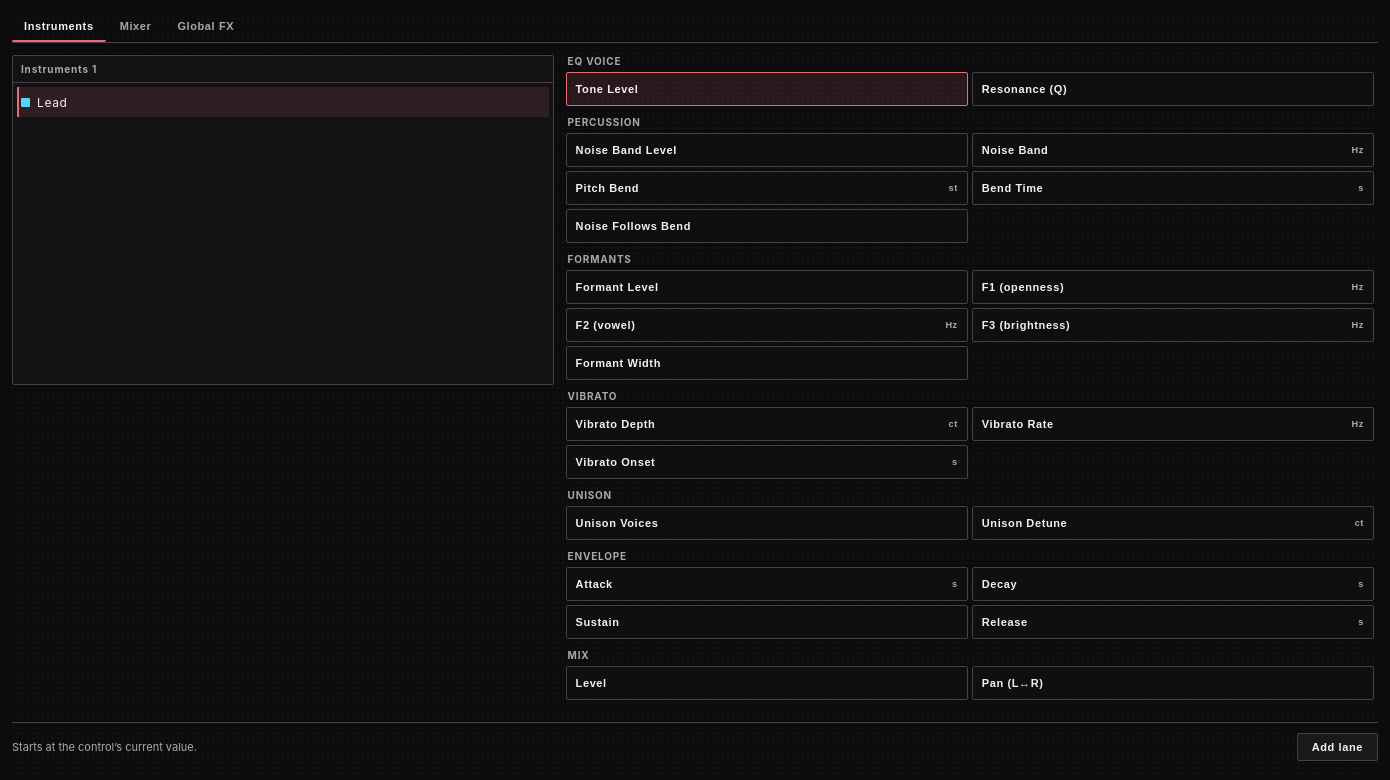
it: automation lane chooser › switches among accessible instrument, mixer, and global target tabs
The width and height of the screenshot is (1390, 780).
Expected: the element named "Instruments" is shown, [13, 83, 553, 121]
Click the tab "Mixer": (136, 27) [108, 12, 163, 42]
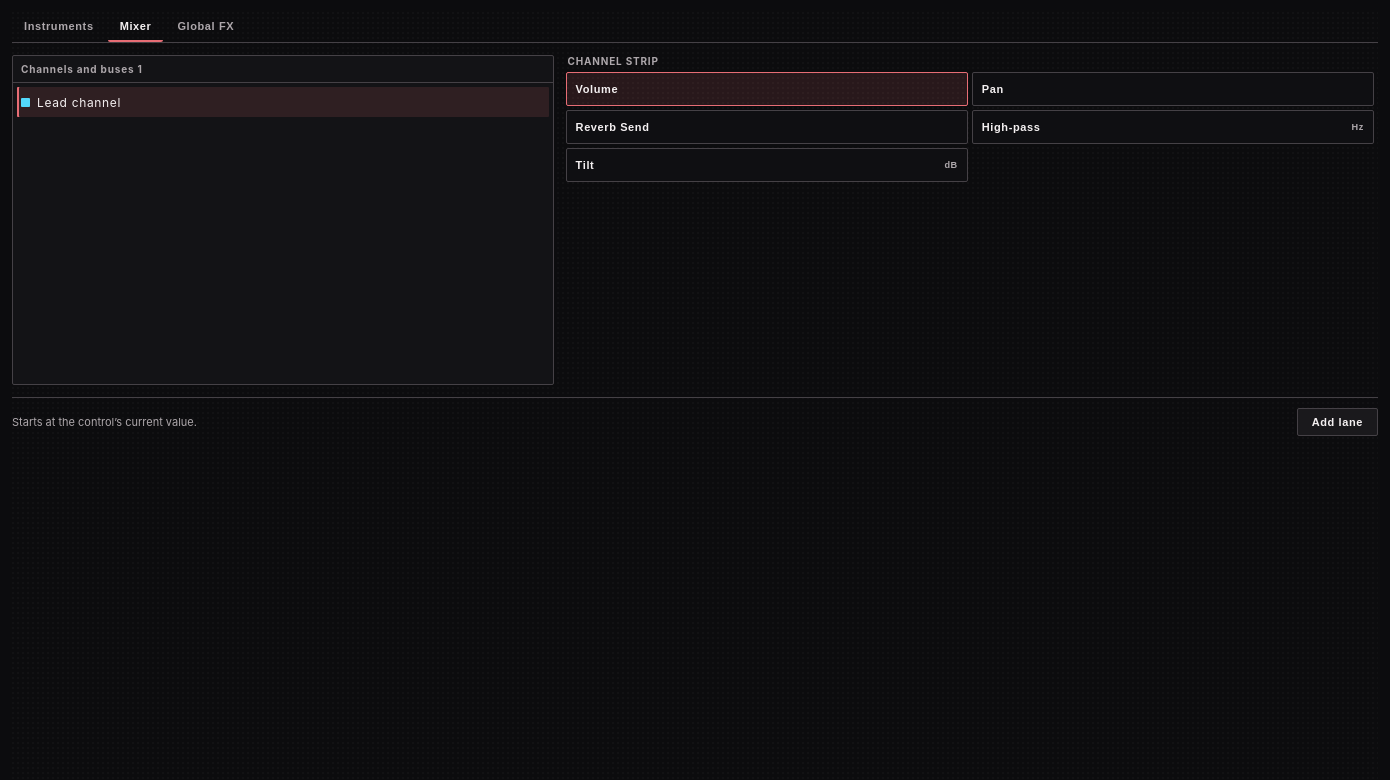
Now the element named "Channels and buses" is shown, box [13, 83, 553, 121]
Now the button "Lead channel" is shown, box [17, 88, 549, 116]
Click the tab "Global FX": (206, 27) [165, 12, 246, 42]
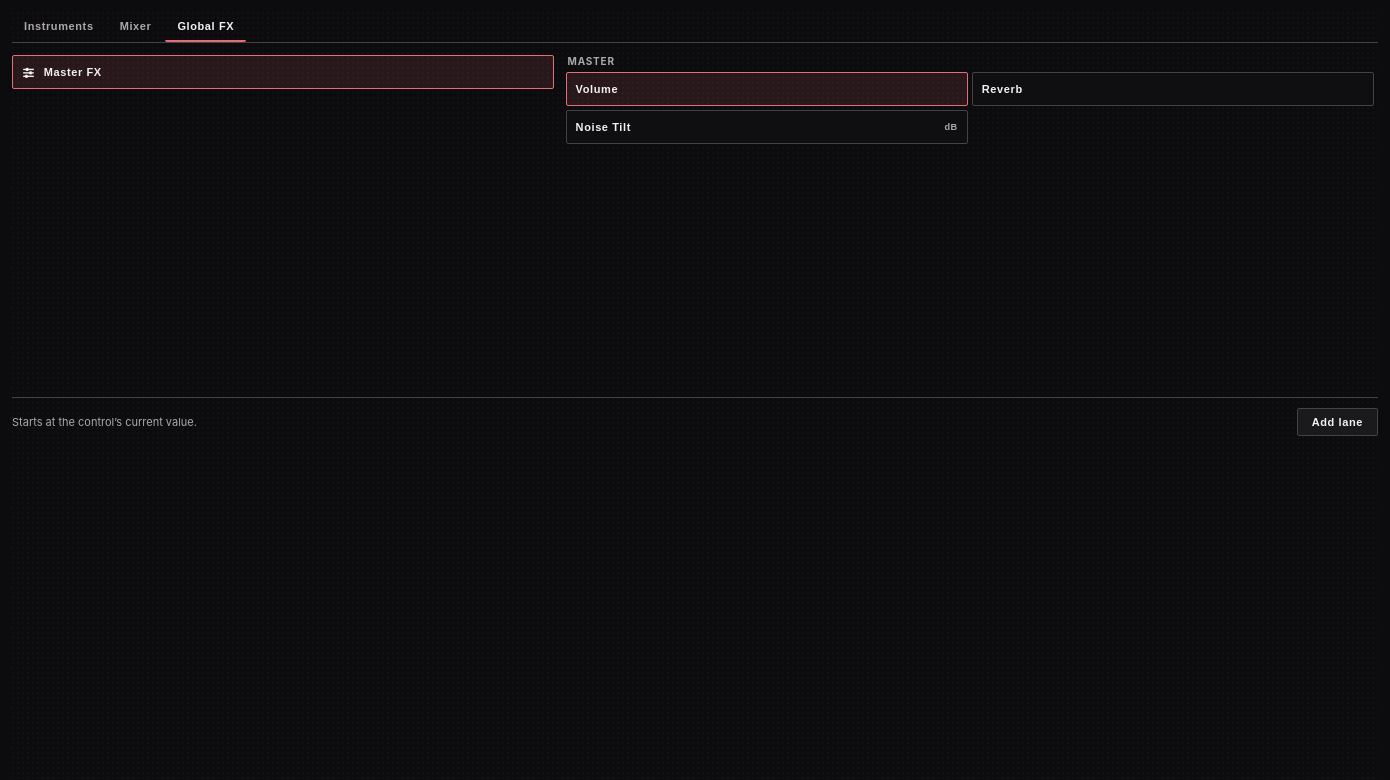
Now the button "Master FX" is shown, box [12, 55, 554, 89]
